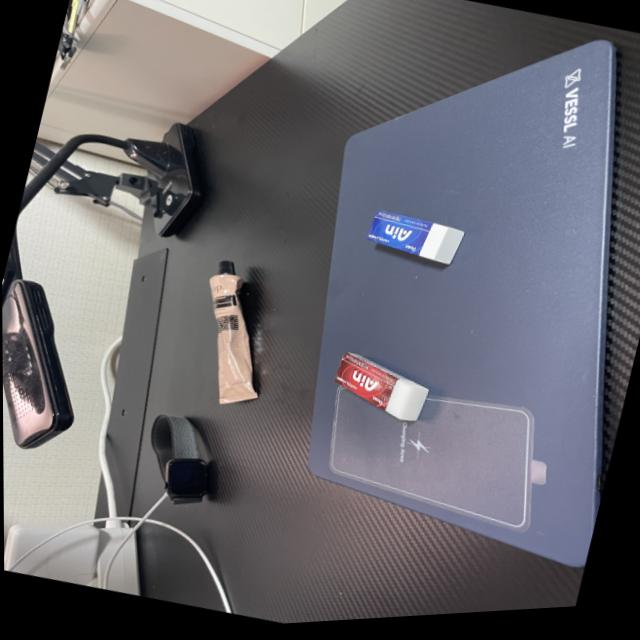blue: (351, 198, 476, 288)
red: (315, 340, 443, 438)
